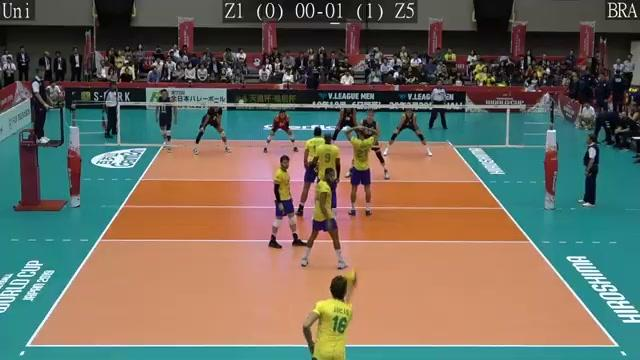ball: (337, 267, 362, 285)
